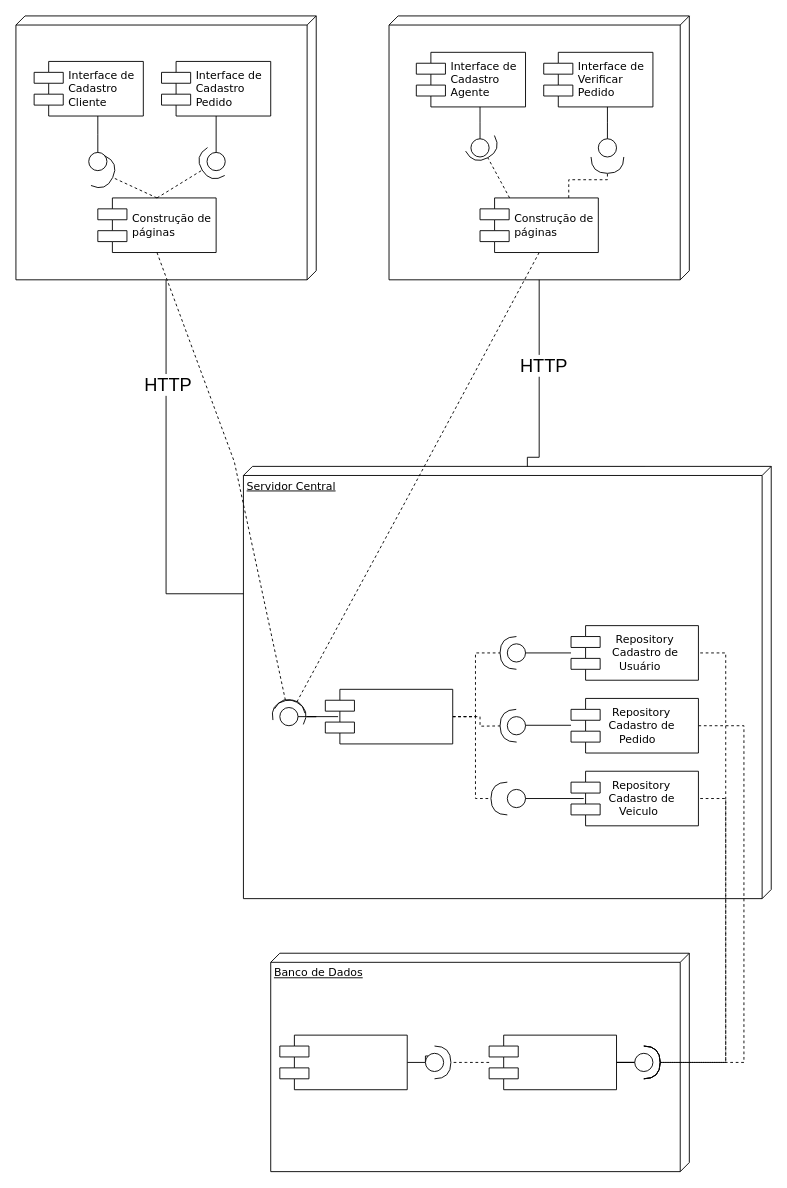
The diagram is 787 pixels wide and 1188 high, and some of its shapes have lost their labels. Each missing label, with the box of its shape:
API Regras de Negócio: (324, 688, 453, 744)
Computador Agentes: (388, 15, 689, 280)
Computador Cliente: (15, 15, 316, 280)
Persistência de Dados: (488, 1034, 617, 1090)
SGBD: (279, 1034, 407, 1090)
